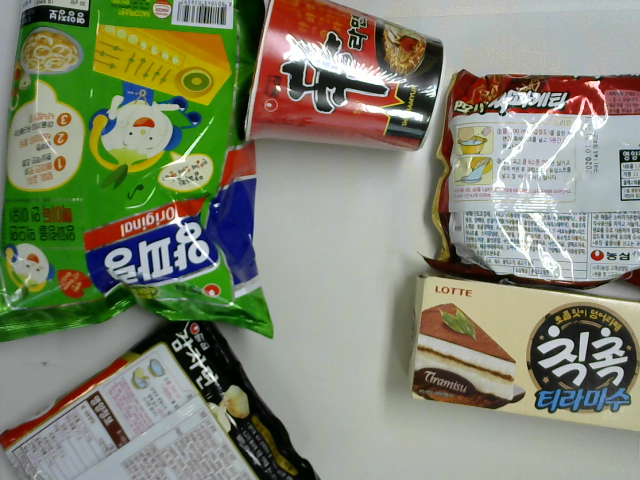Chicchok_Tiramisu: (409, 270, 640, 439)
Oninon_Ring: (1, 2, 274, 343)
Potato: (8, 316, 319, 480)
Sichuan_Chapaghetti: (417, 66, 640, 295)
Sinramen_small: (243, 1, 449, 156)
